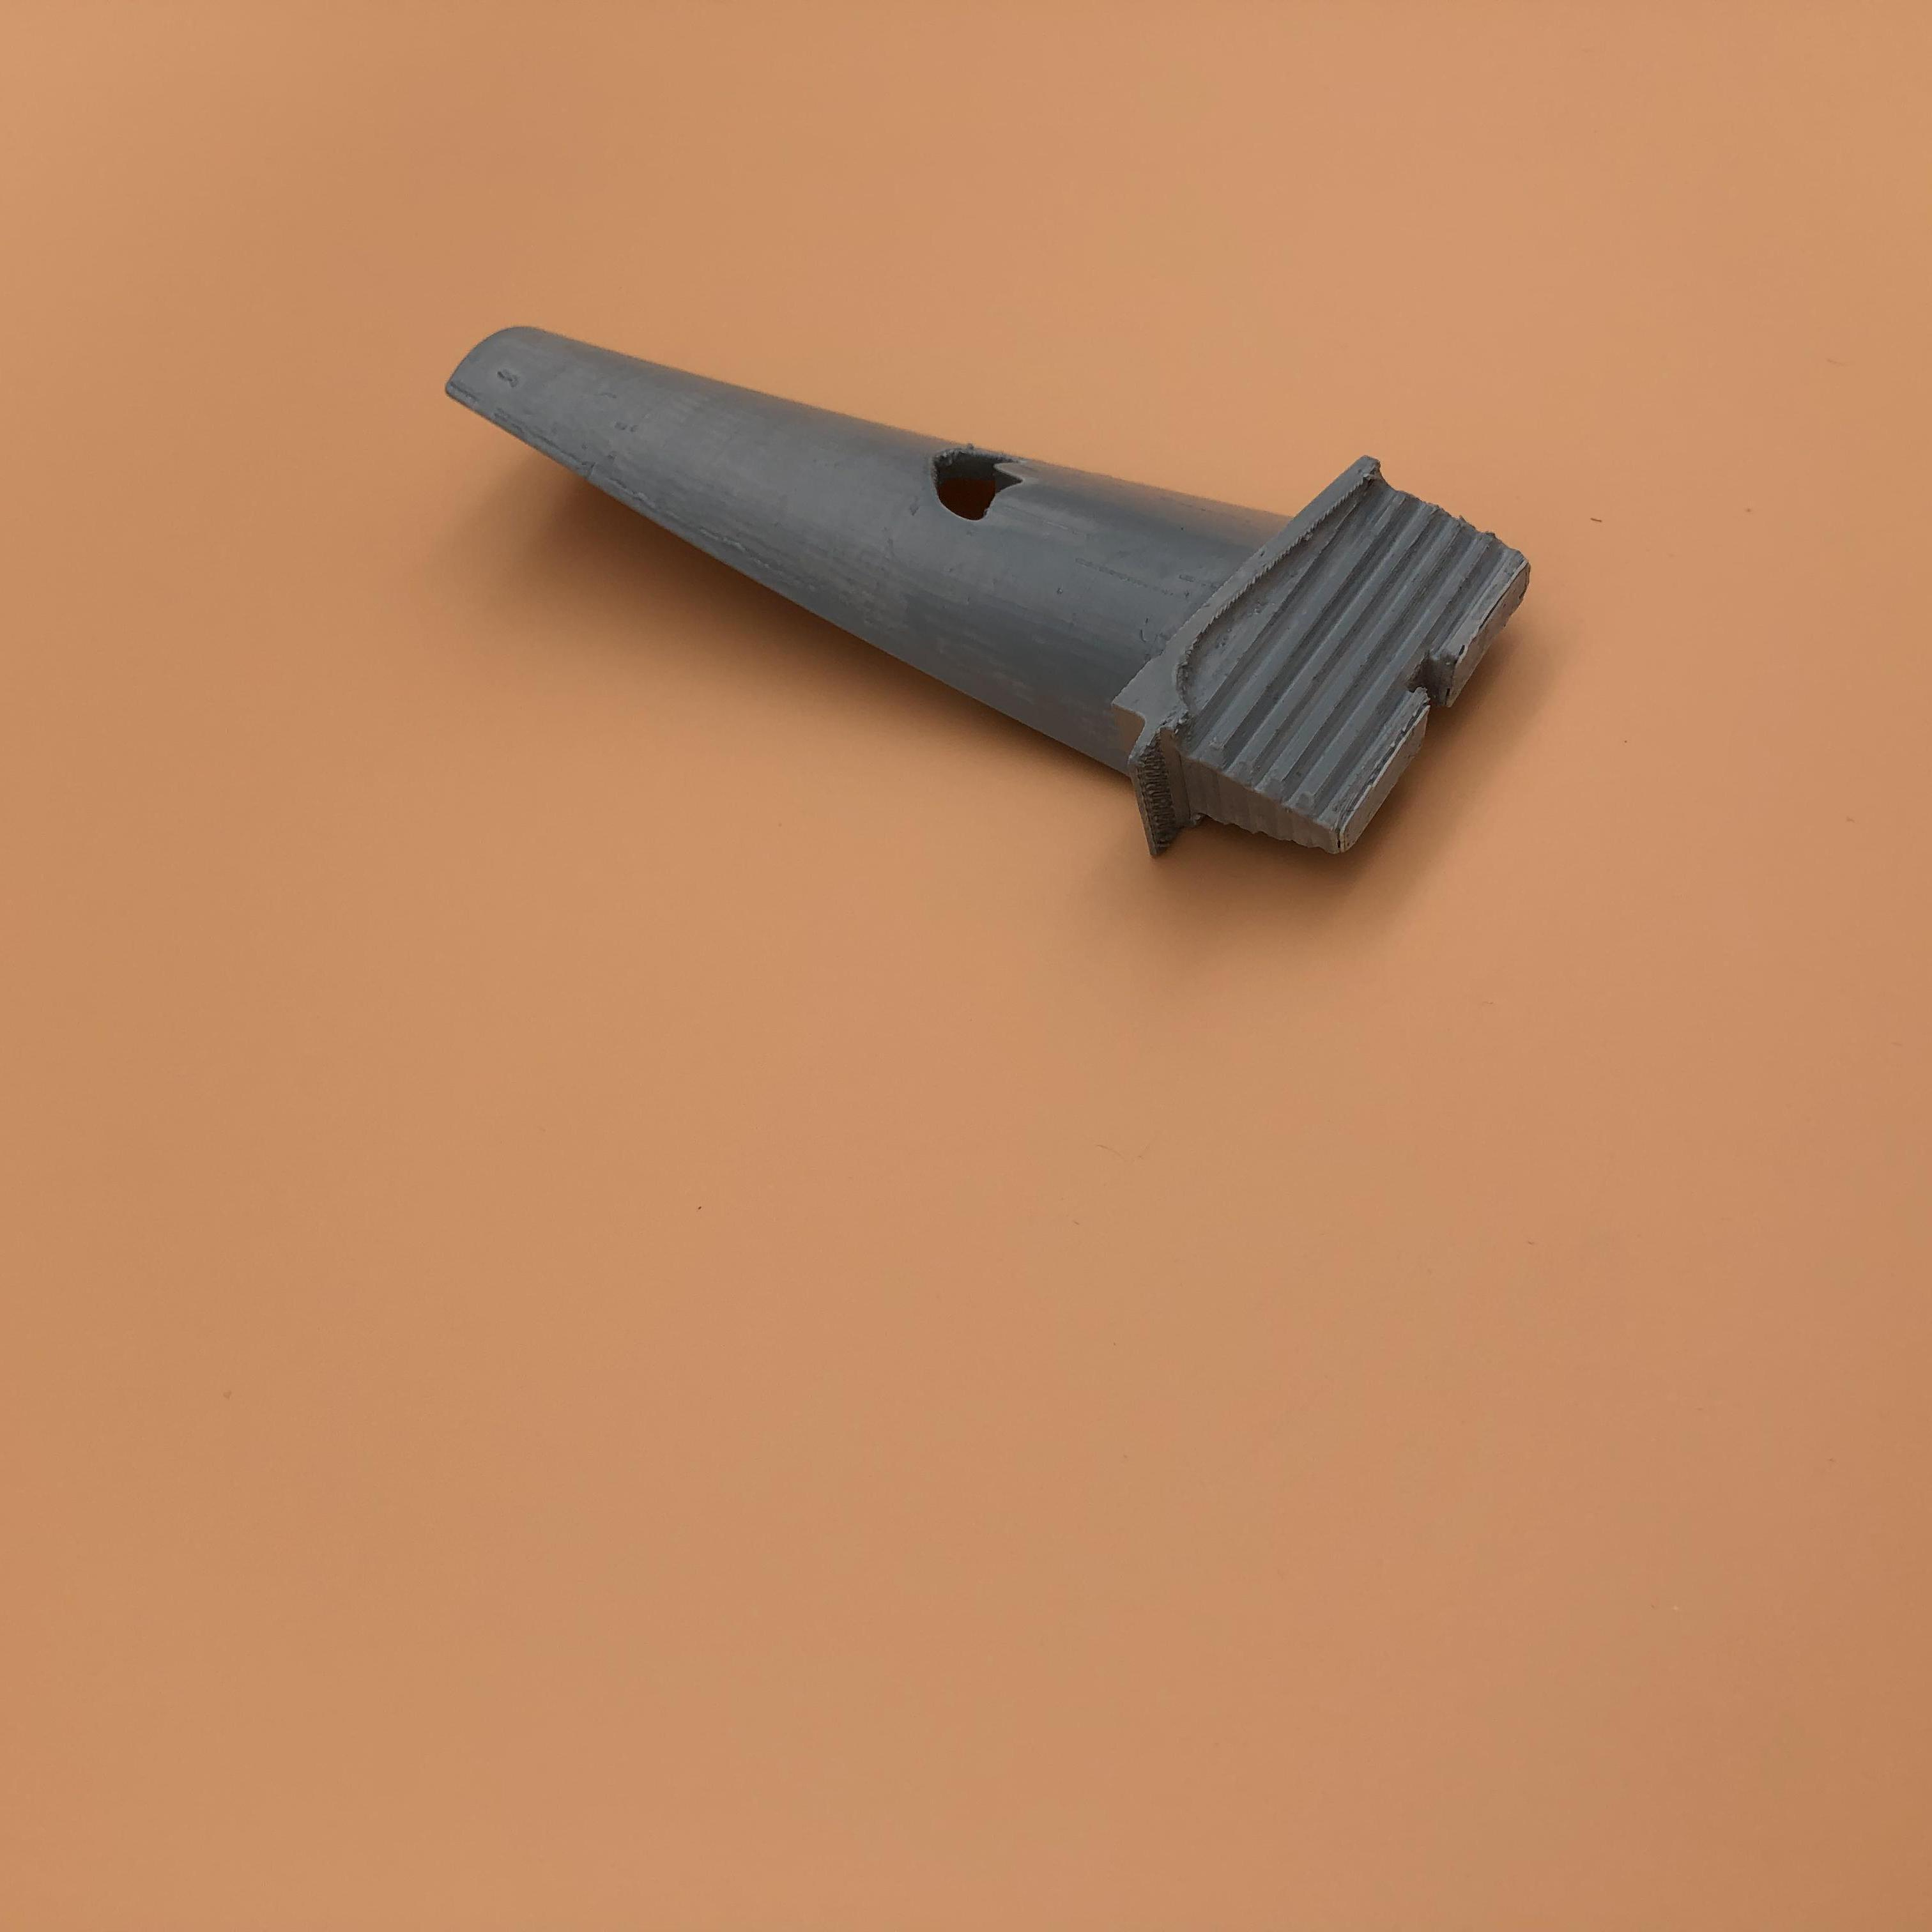breakdown: (925, 437, 1044, 524)
